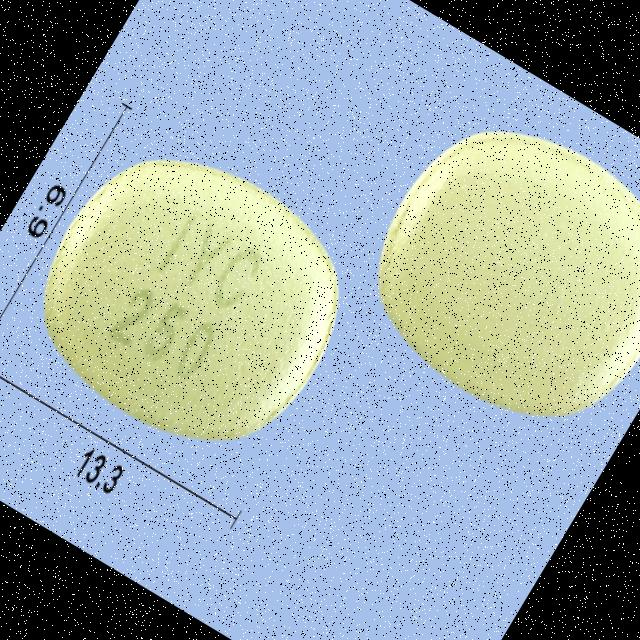Clafacin -500mg: (0, 105, 388, 494), (327, 78, 640, 466)
